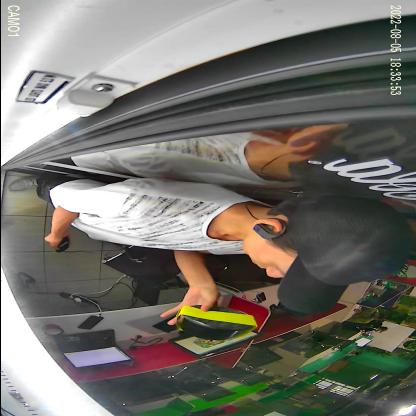yellow: (175, 305, 257, 341)
